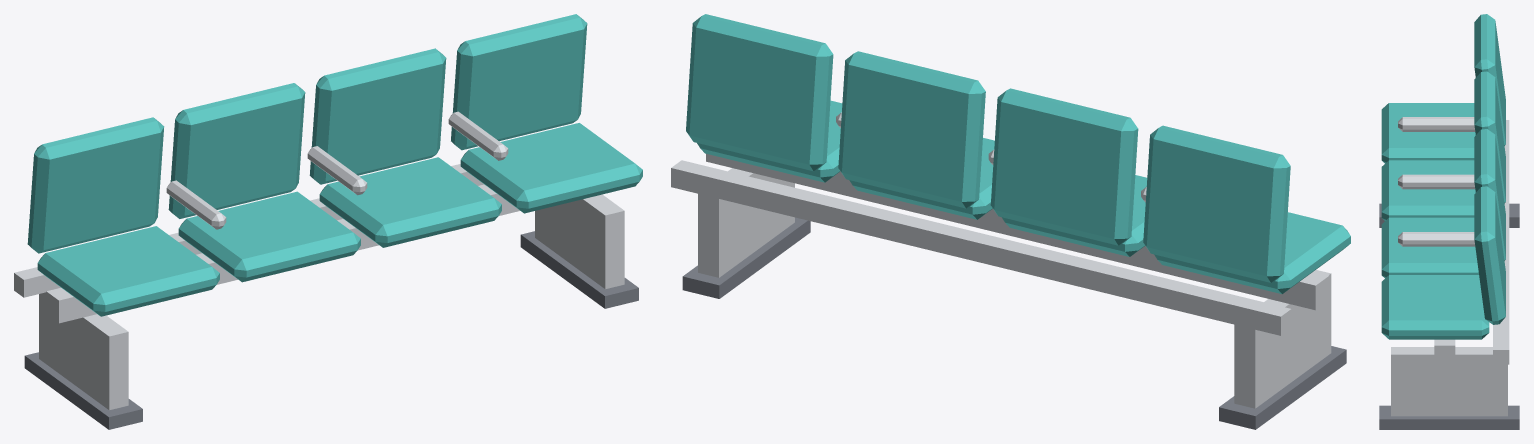
File: hospital-wards-and-clinic-operations-waiting-bench-row-4a483ebb.glb
3 renders of one model, left to right at view 1: azimuth 30°, elevation 25°; view 2: azimuth 150°, elevation 25°; view 3: azimuth 270°, elevation 25°, orthographic. The views are drawn at different scales.
Parts seen in each view (by area): view 1: waiting-bench-row; view 2: waiting-bench-row; view 3: waiting-bench-row.
Boxes of the visible parts, <box> form: waiting-bench-row: <box>14,14,642,429</box>; waiting-bench-row: <box>671,14,1350,429</box>; waiting-bench-row: <box>1379,14,1519,429</box>.
Bounding box in the file's own units: 2.32 × 0.9385 × 0.5999.
